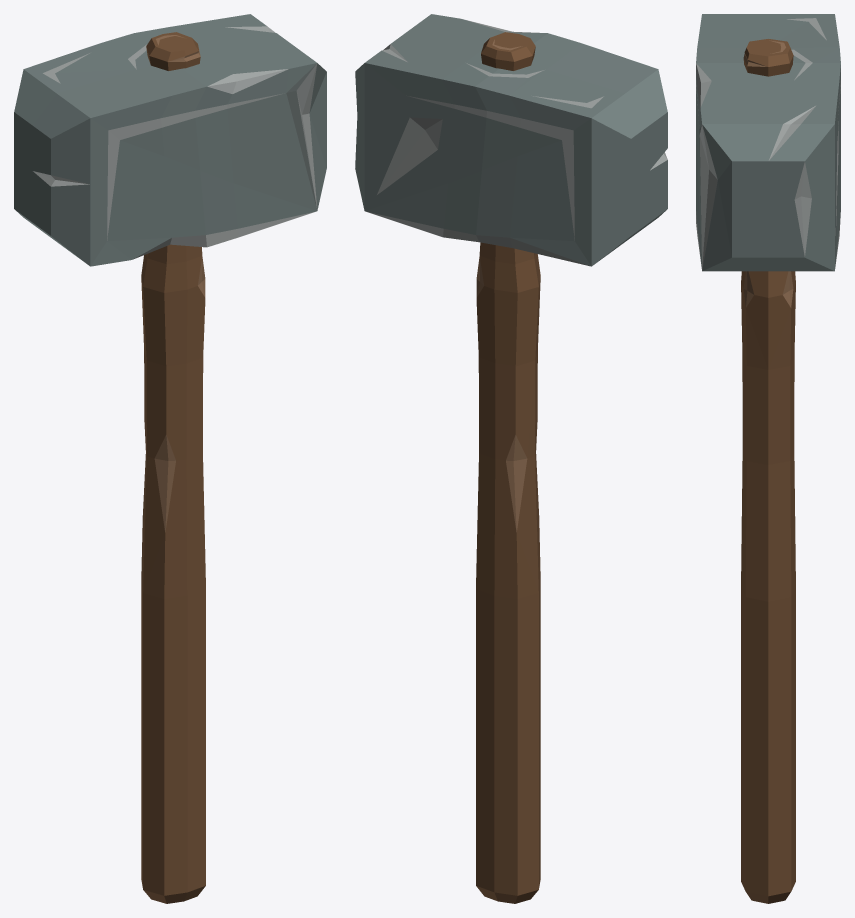
Rendered from mesh_buildinghammer.fbx.
3 renders of one model, left to right at view 1: azimuth 30°, elevation 25°; view 2: azimuth 150°, elevation 25°; view 3: azimuth 270°, elevation 25°, orthographic.
Parts seen in each view (by area): view 1: mesh_buildinghammer; view 2: mesh_buildinghammer; view 3: mesh_buildinghammer.
Part boxes in pixels (x1=…): mesh_buildinghammer: x1=14, y1=14, x2=326, y2=903; mesh_buildinghammer: x1=355, y1=14, x2=667, y2=903; mesh_buildinghammer: x1=696, y1=14, x2=840, y2=903.
Size of the model in its own units: 0.2761 by 0.8144 by 0.1266.
